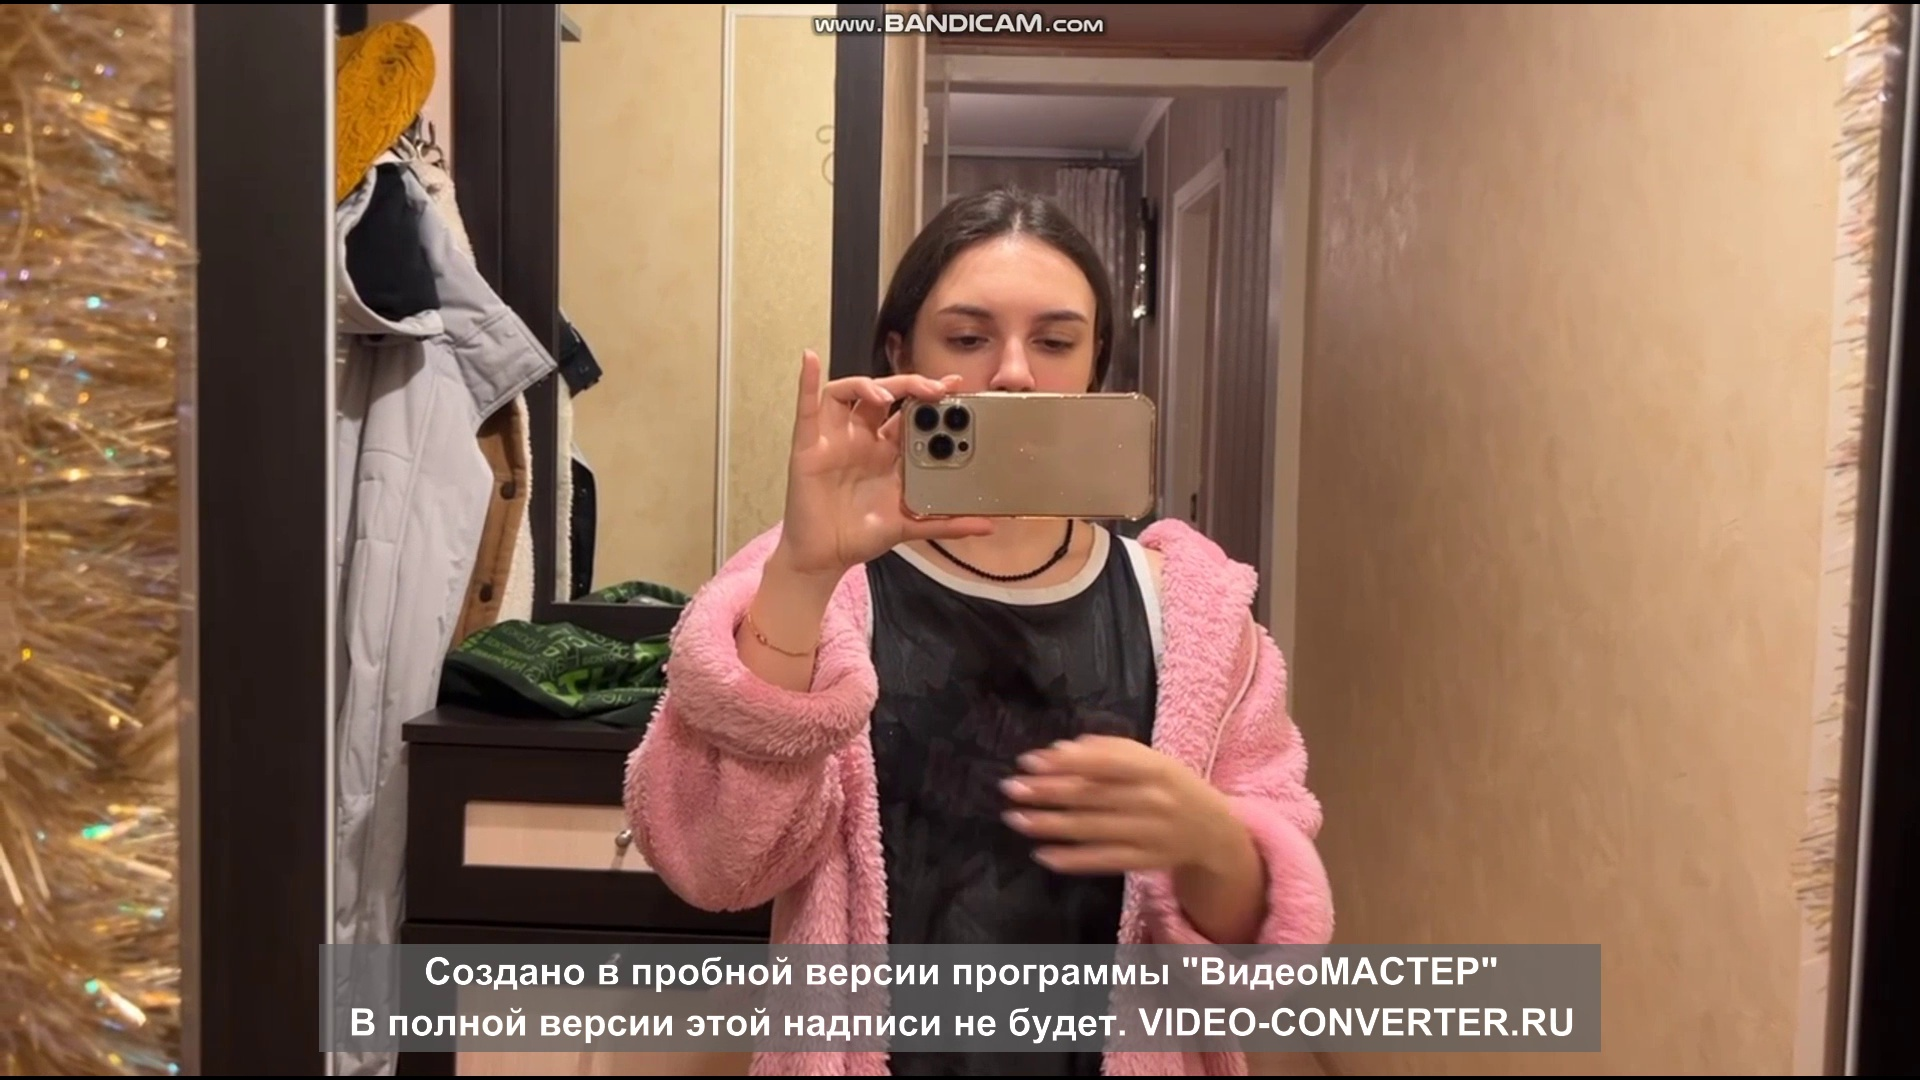Кисть: (998, 731, 1209, 874)
